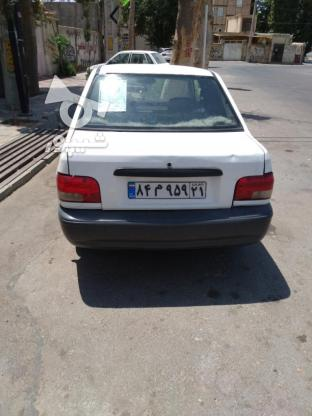car: (123, 180, 210, 202)
